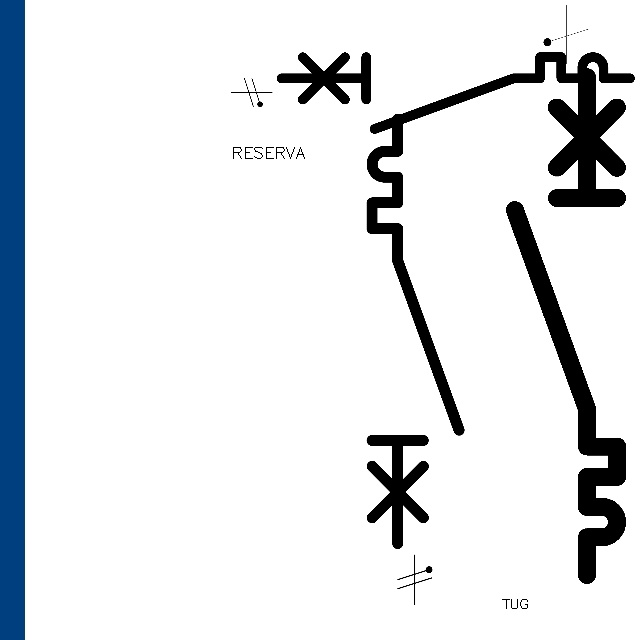interruptor_termomagnetico: (502, 64, 630, 588), (361, 108, 470, 555), (272, 48, 639, 137)
